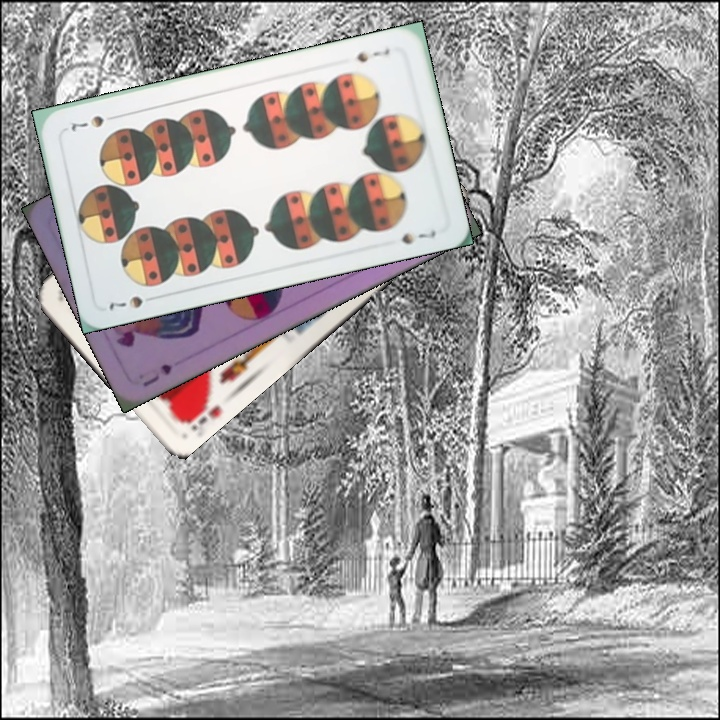HK: (176, 388, 225, 434)
S7: (104, 291, 161, 313), (352, 44, 392, 65)
SU: (138, 360, 176, 390)
